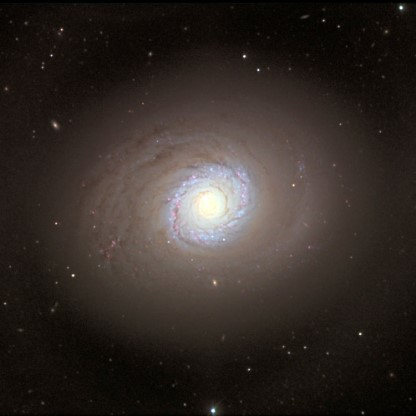Messier 94: (28, 58, 393, 357)
